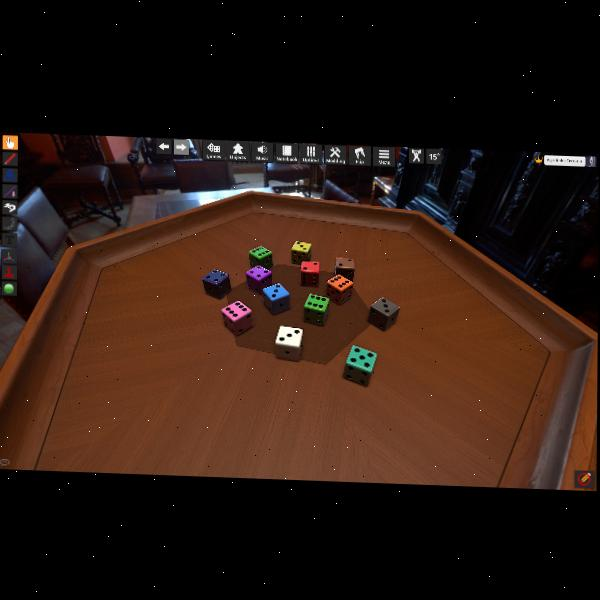d6: (343, 345, 378, 386), (222, 300, 254, 336), (369, 296, 399, 331), (274, 325, 303, 360), (262, 281, 290, 315), (325, 273, 353, 305), (202, 269, 230, 300), (245, 264, 273, 295), (304, 292, 330, 325), (248, 245, 272, 269), (300, 260, 320, 287), (291, 240, 311, 265), (335, 257, 355, 282)
